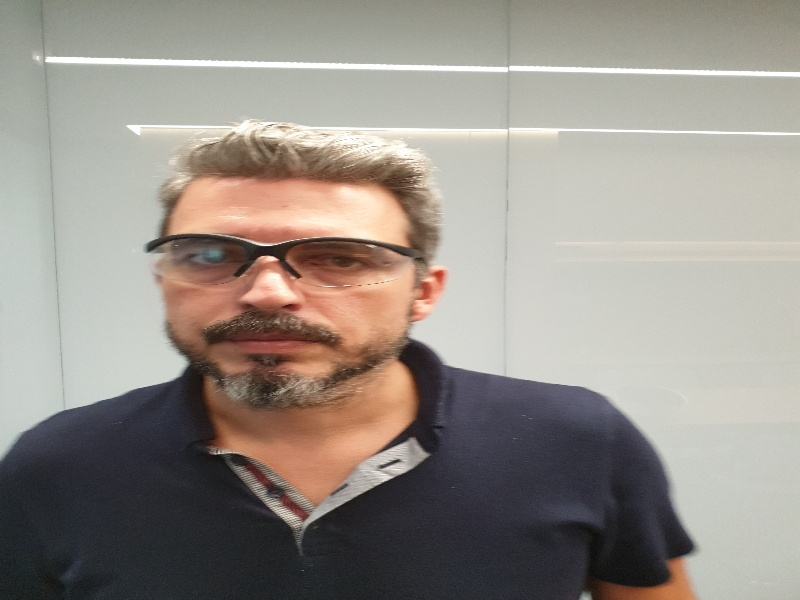Gozluk: (141, 232, 424, 286)
